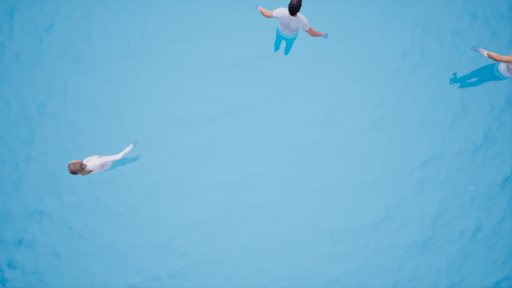person: (245, 2, 332, 59), (62, 138, 146, 177), (459, 31, 512, 90)
